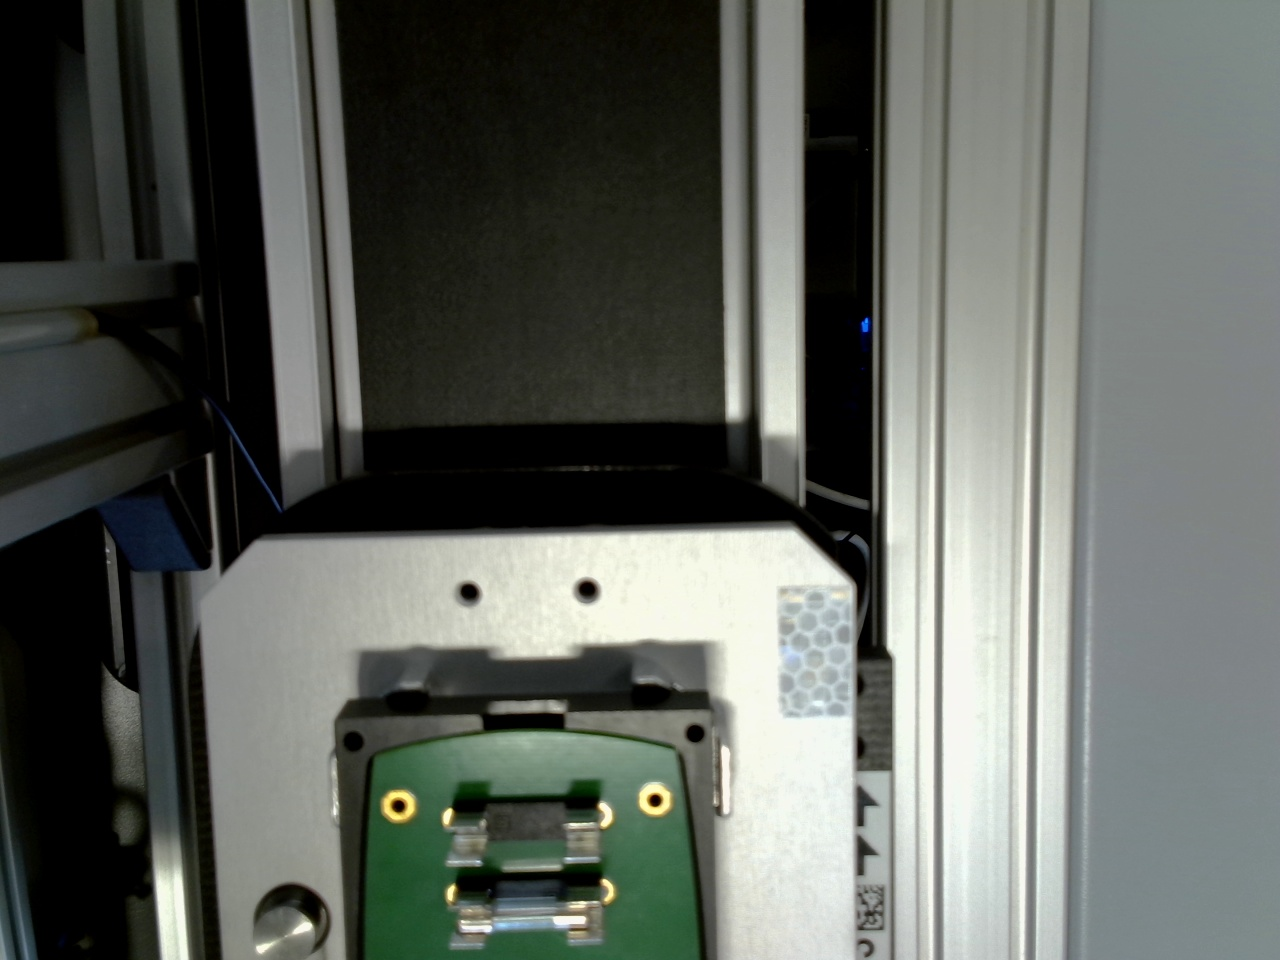Onefuse: (455, 897, 594, 938)
